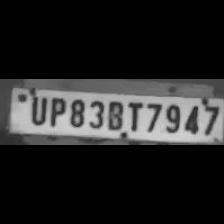3: (86, 96, 104, 130)
4: (180, 100, 200, 134)
7: (198, 101, 220, 135), (141, 100, 161, 132)
8: (65, 96, 85, 128)
9: (161, 100, 181, 134)
B: (104, 97, 124, 130)
P: (46, 94, 66, 126)
T: (125, 98, 143, 132)
U: (25, 94, 47, 124)
